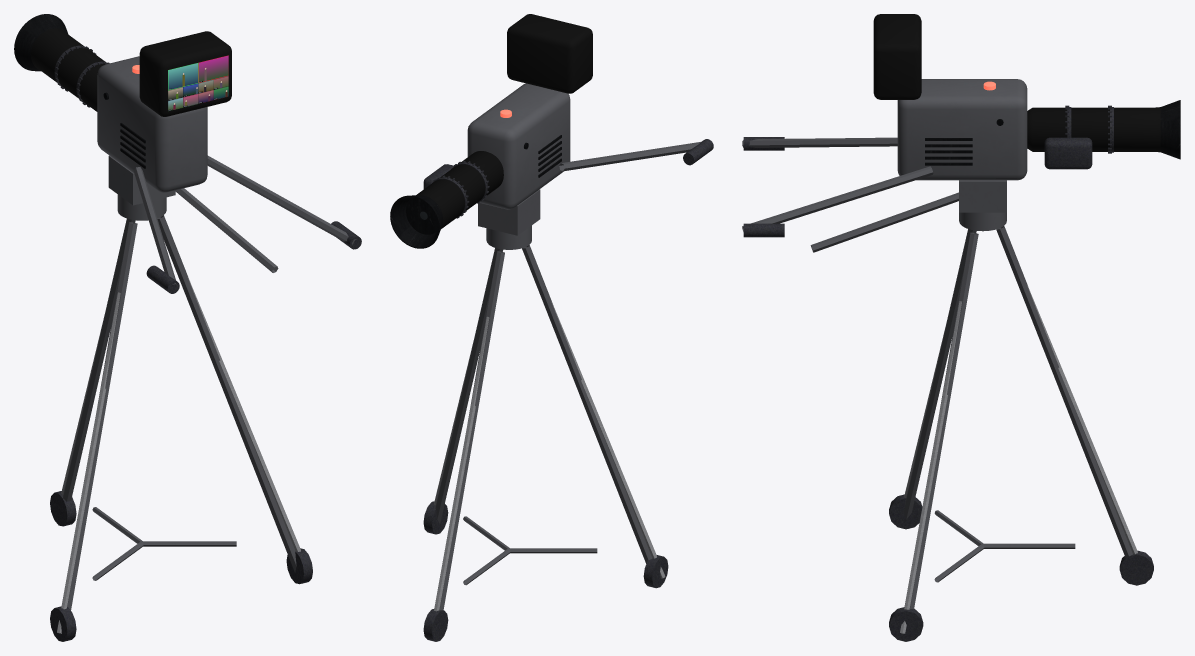
File: camera_studio_zoom.gltf
The picture shows the model from 3 angles, left to right: view 1: azimuth 30°, elevation 25°; view 2: azimuth 150°, elevation 25°; view 3: azimuth 270°, elevation 25°; orthographic projection. The views are drawn at different scales.
Parts seen in each view (by area): view 1: camera_studio_zoom; view 2: camera_studio_zoom; view 3: camera_studio_zoom.
Boxes of the visible parts, <box> form: camera_studio_zoom: <box>14,14,361,641</box>; camera_studio_zoom: <box>390,14,713,641</box>; camera_studio_zoom: <box>742,14,1180,641</box>.
Bounding box in the file's own units: 0.8329 × 1.79 × 1.28.
8 materials, 6 textured.
